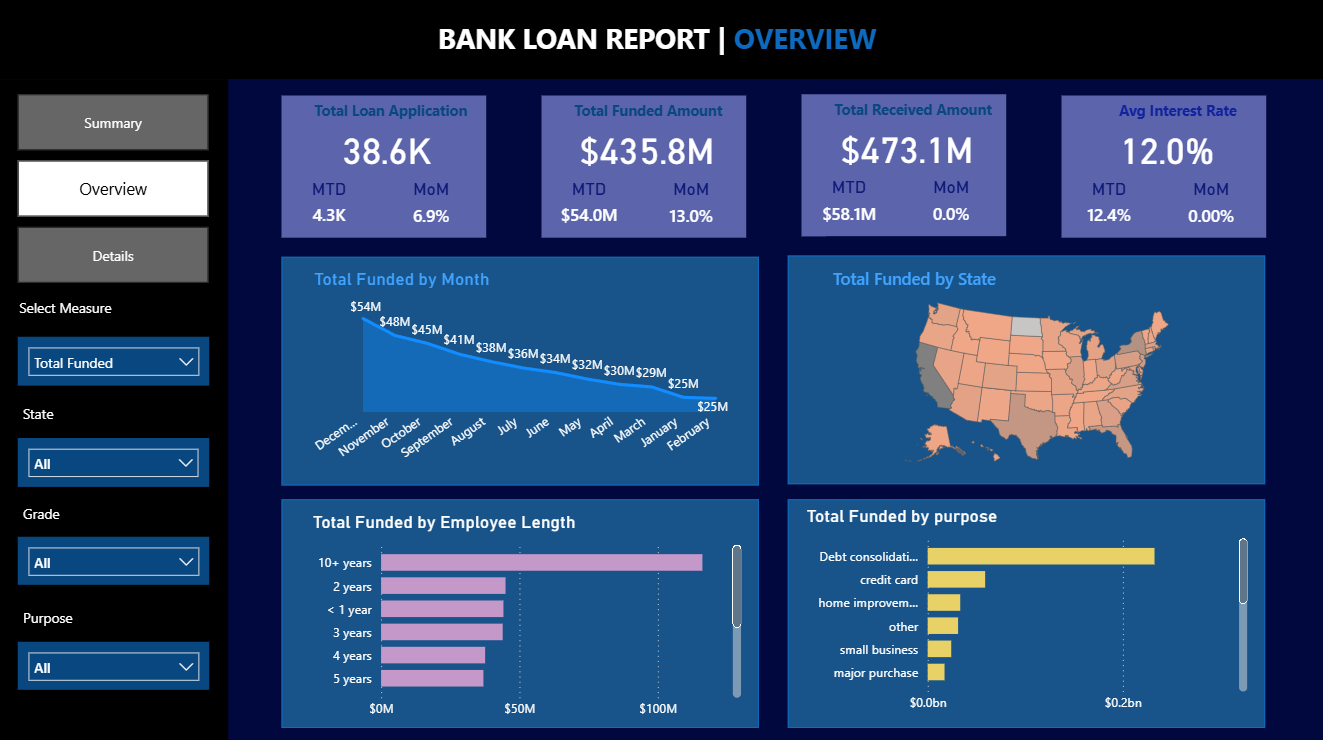

The dashboard page shown, as its layout file describes it:
{"tool":"powerbi","page":{"name":"Overview","canvas":[1280,720],"ordinal":1},"visuals":[{"type":"shape","box":[0,78.8,221.2,641.2],"z":0},{"type":"shape","box":[774.4,93.3,197.6,137.2],"z":0,"group":"g3"},{"type":"shape","box":[273.1,94.7,197.6,137.2],"z":0,"group":"g1"},{"type":"shape","box":[523.7,94.7,197.6,137.2],"z":0,"group":"g2"},{"type":"shape","box":[1025,94.7,197.6,137.2],"z":0,"group":"g4"},{"type":"card","fields":{"Values":["bank_loan_data.Total Amount Received"]},"box":[792.2,116.6,167.4,56.3],"z":1000,"group":"g3"},{"type":"card","fields":{"Values":["bank_loan_data.Total Loan Application"]},"box":[290.9,118,167.4,56.3],"z":1000,"group":"g1"},{"type":"card","fields":{"Values":["bank_loan_data.Total Funded"]},"box":[541.5,118,167.4,56.3],"z":1000,"group":"g2"},{"type":"card","fields":{"Values":["bank_loan_data.Avg Interest Rate"]},"box":[1042.8,118,167.4,56.3],"z":1000,"group":"g4"},{"type":"shape","box":[272.7,249.7,460.9,220.8],"z":1000},{"type":"shape","box":[0,0,1280.3,78.2],"z":2000},{"type":"textbox","box":[800.5,93.3,171.5,37],"z":2000,"group":"g3"},{"type":"textbox","box":[299.2,94.7,171.5,37],"z":2000,"group":"g1"},{"type":"textbox","box":[549.8,94.7,171.5,37],"z":2000,"group":"g2"},{"type":"textbox","box":[1051.1,94.7,171.5,37],"z":2000,"group":"g4"},{"type":"card","title":"MTD","fields":{"Values":["bank_loan_data.MTD Total Amount Recieved"]},"box":[774.4,172.9,91.9,56.3],"z":3000,"group":"g3"},{"type":"card","title":"MTD","fields":{"Values":["bank_loan_data.MTD Loan Application"]},"box":[273.1,174.3,91.9,56.3],"z":3000,"group":"g1"},{"type":"card","title":"MTD","fields":{"Values":["bank_loan_data.MTD Funded Amount"]},"box":[523.7,174.3,91.9,56.3],"z":3000,"group":"g2"},{"type":"card","title":"MTD","fields":{"Values":["bank_loan_data.MTD Avg Int Rate"]},"box":[1025,174.3,91.9,56.3],"z":3000,"group":"g4"},{"type":"textbox","box":[17.5,387.5,56.2,37.5],"z":3000},{"type":"textbox","box":[418.5,15.1,441.9,45.3],"z":4000},{"type":"card","title":"MoM","fields":{"Values":["bank_loan_data.MoM Total Recieved Amount"]},"box":[875.9,172.9,86.4,57.6],"z":4000,"group":"g3"},{"type":"card","title":"MoM","fields":{"Values":["bank_loan_data.MoM Loan Application"]},"box":[374.6,174.3,86.4,57.6],"z":4000,"group":"g1"},{"type":"card","title":"MoM","fields":{"Values":["bank_loan_data.MoM Total Funded Amount"]},"box":[625.2,174.3,86.4,57.6],"z":4000,"group":"g2"},{"type":"card","title":"MoM","fields":{"Values":["bank_loan_data.MoM Avg Int Rate"]},"box":[1126.5,174.3,86.4,57.6],"z":4000,"group":"g4"},{"type":"group","id":"g1","title":"Group 1","box":[273.1,94.7,197.6,137.2],"z":5000},{"type":"group","id":"g2","title":"Group 1","box":[523.7,94.7,197.6,137.2],"z":6000},{"type":"group","id":"g3","title":"Group 1","box":[774.4,93.3,197.6,137.2],"z":7000},{"type":"group","id":"g4","title":"Group 1","box":[1025,94.7,197.6,137.2],"z":8000},{"type":"slicer","fields":{"Values":["bank_loan_data.address_state"]},"box":[18.1,424.7,184.6,47.1],"z":9000},{"type":"slicer","fields":{"Values":["bank_loan_data.grade"]},"box":[17.5,520,185,46.2],"z":10000},{"type":"slicer","fields":{"Values":["bank_loan_data.purpose"]},"box":[17.5,621.2,185,46.2],"z":11000},{"type":"textbox","box":[17.5,483.8,61.2,37.5],"z":12000},{"type":"textbox","box":[17.5,583.8,93.8,37.5],"z":13000},{"type":"areaChart","fields":{"Y":["bank_loan_data.Total Funded"],"Category":["Date Table.Month"]},"box":[298.8,260,410,201.2],"z":14000},{"type":"slicer","fields":{"Values":["Select Measure.Select Measure"]},"box":[17.5,327.5,185,47.5],"z":15000},{"type":"shape","box":[761.3,248.5,460.9,220.8],"z":16000},{"type":"textbox","box":[15,285,112.5,42.5],"z":17000},{"type":"shapeMap","fields":{"Value":["bank_loan_data.Total Funded"],"Category":["bank_loan_data.address_state"]},"box":[799.9,259.4,404.2,201.5],"z":18000},{"type":"shape","box":[272.7,483.8,460.9,220.8],"z":19000},{"type":"shape","box":[761.3,483.8,460.9,220.8],"z":20000},{"type":"barChart","fields":{"Y":["bank_loan_data.Total Funded"],"Category":["bank_loan_data.emp_length"]},"box":[298,495.8,423.5,208.7],"z":21000},{"type":"barChart","fields":{"Y":["bank_loan_data.Total Funded"],"Category":["bank_loan_data.purpose"]},"box":[774.5,489.8,435.5,208.7],"z":22000},{"type":"pageNavigator","box":[18.1,92.9,184.6,184.6],"z":23000}]}

Visuals, with their boxes in screenshot pixels (x1, y1, x2, y2), scaled from the page's 1280x720 canvas onto the 1323x740 screenshot:
shape: region(0, 81, 229, 739)
shape: region(800, 96, 1005, 237)
shape: region(282, 97, 487, 238)
shape: region(541, 97, 746, 238)
shape: region(1059, 97, 1264, 238)
card - bank_loan_data.Total Amount Received: region(819, 120, 992, 178)
card - bank_loan_data.Total Loan Application: region(301, 121, 474, 179)
card - bank_loan_data.Total Funded: region(560, 121, 733, 179)
card - bank_loan_data.Avg Interest Rate: region(1078, 121, 1251, 179)
shape: region(282, 257, 758, 484)
shape: region(0, 0, 1322, 80)
textbox: region(827, 96, 1005, 134)
textbox: region(309, 97, 487, 135)
textbox: region(568, 97, 746, 135)
textbox: region(1086, 97, 1264, 135)
"MTD" card: region(800, 178, 895, 236)
"MTD" card: region(282, 179, 377, 237)
"MTD" card: region(541, 179, 636, 237)
"MTD" card: region(1059, 179, 1154, 237)
textbox: region(18, 398, 76, 437)
textbox: region(433, 16, 889, 62)
"MoM" card: region(905, 178, 995, 237)
"MoM" card: region(387, 179, 476, 238)
"MoM" card: region(646, 179, 736, 238)
"MoM" card: region(1164, 179, 1254, 238)
"Group 1" group: region(282, 97, 487, 238)
"Group 1" group: region(541, 97, 746, 238)
"Group 1" group: region(800, 96, 1005, 237)
"Group 1" group: region(1059, 97, 1264, 238)
slicer - bank_loan_data.address_state: region(19, 436, 210, 485)
slicer - bank_loan_data.grade: region(18, 534, 209, 582)
slicer - bank_loan_data.purpose: region(18, 638, 209, 686)
textbox: region(18, 497, 81, 536)
textbox: region(18, 600, 115, 639)
areaChart - bank_loan_data.Total Funded x Date Table.Month: region(309, 267, 733, 474)
slicer - Select Measure.Select Measure: region(18, 337, 209, 385)
shape: region(787, 255, 1263, 482)
textbox: region(16, 293, 132, 337)
shapeMap - bank_loan_data.Total Funded x bank_loan_data.address_state: region(827, 267, 1245, 474)
shape: region(282, 497, 758, 724)
shape: region(787, 497, 1263, 724)
barChart - bank_loan_data.Total Funded x bank_loan_data.emp_length: region(308, 510, 746, 724)
barChart - bank_loan_data.Total Funded x bank_loan_data.purpose: region(801, 503, 1251, 718)
pageNavigator: region(19, 95, 210, 285)
